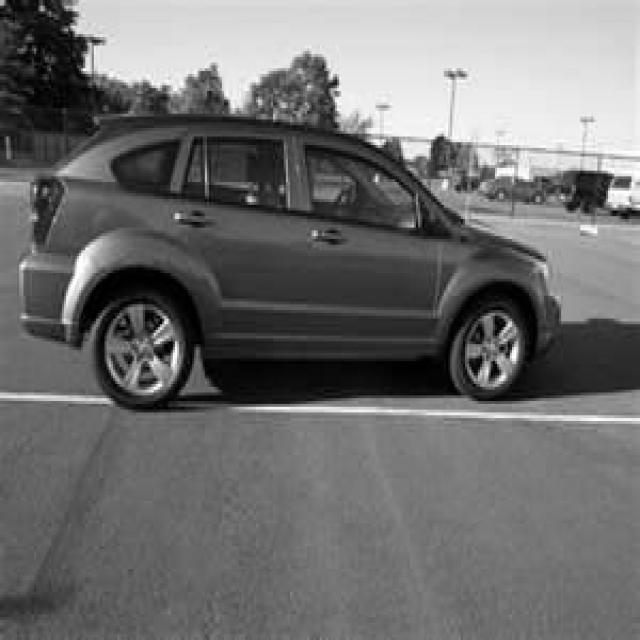car: (17, 111, 561, 410)
